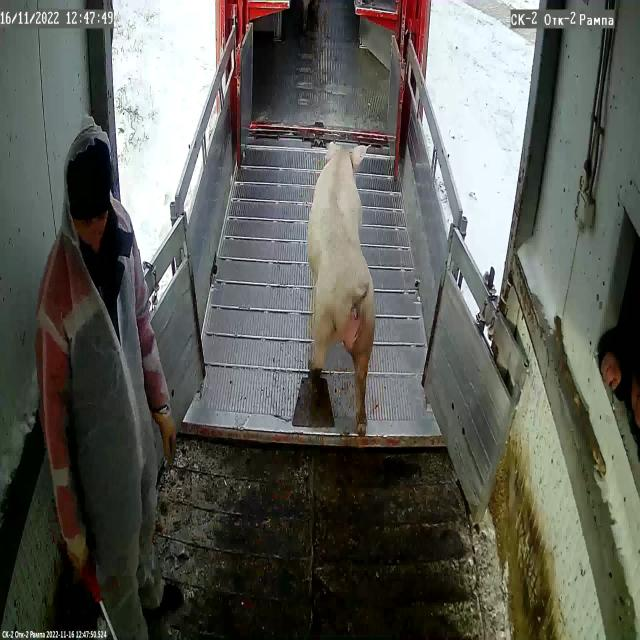pig: (308, 143, 375, 437)
